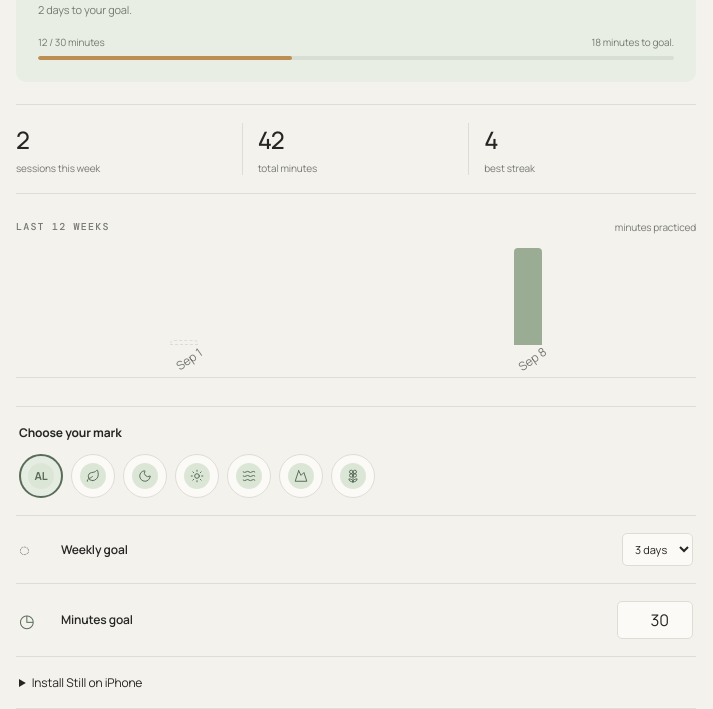
it: Profile › loads profile stats, updates goals and rolls avatar back on failure
(page scrolled)
Select "5 days" in the dropdown named "Weekly practice goal" at coordinates (658, 549), box [622, 533, 693, 566]
(page scrolled)
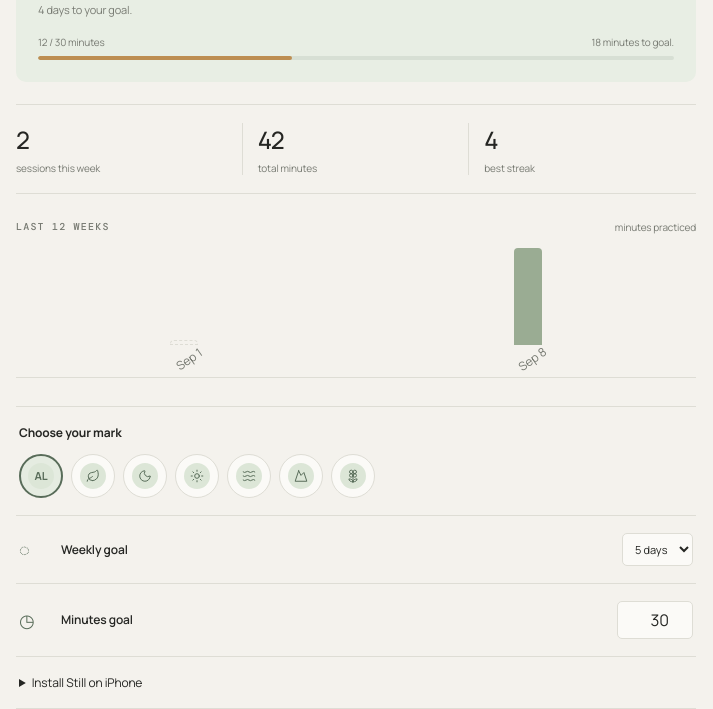
Click the button named "Use leaf avatar" at coordinates (93, 476), box [71, 454, 115, 498]
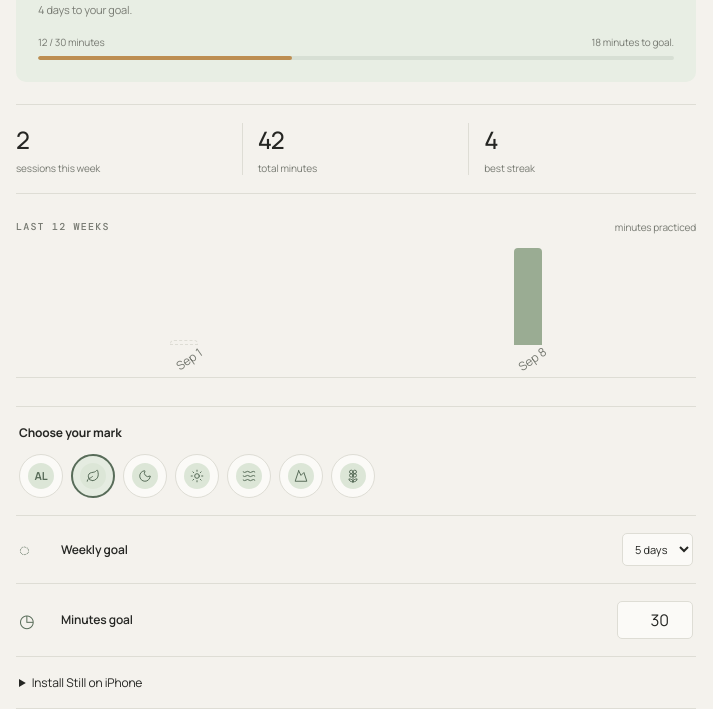
Click the button named "Use moon avatar" at coordinates (145, 476), box [123, 454, 167, 498]
(page scrolled)
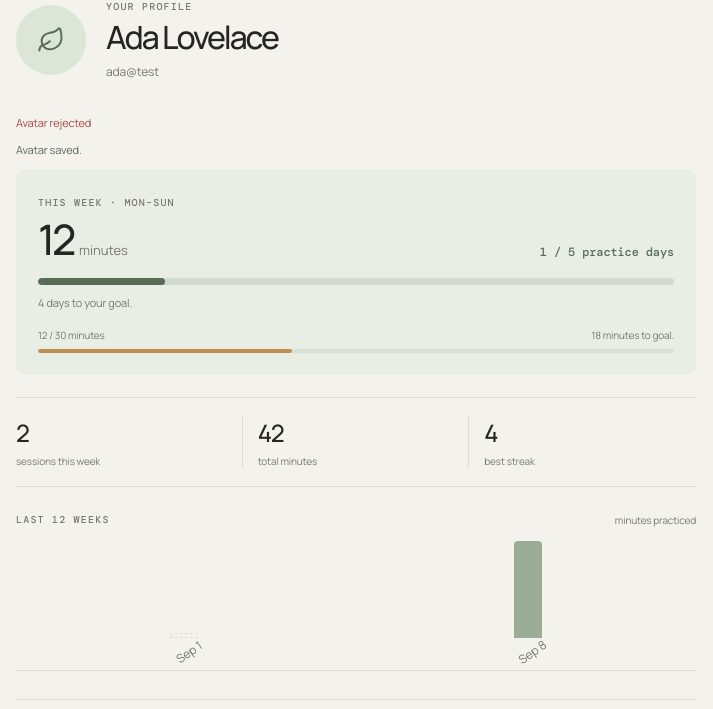
Expected: the message "Avatar rejected" is shown, [16, 115, 91, 130]
